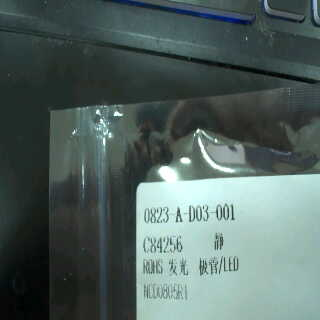LED: (167, 254, 246, 279)
